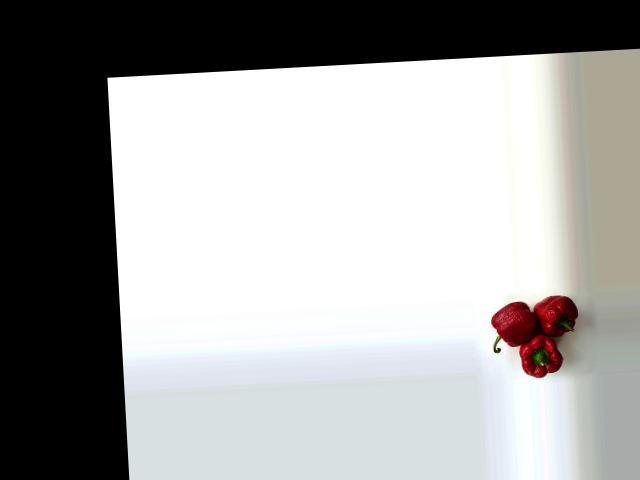bell_pepper: (479, 298, 535, 356)
